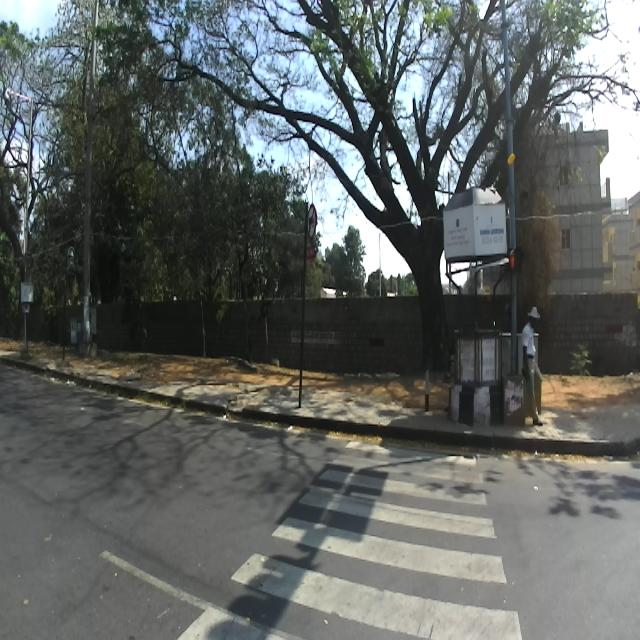zebra crossing ahead at: (188, 427, 520, 640)
